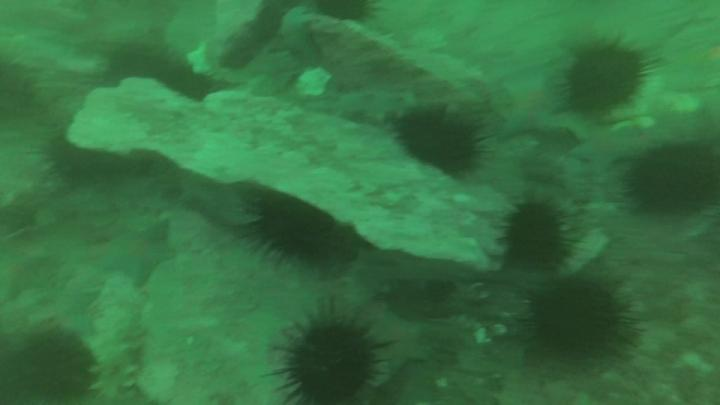echinus: (289, 319, 377, 405), (529, 285, 626, 362), (631, 148, 720, 220), (17, 323, 90, 401), (566, 44, 645, 114), (256, 204, 339, 265), (399, 109, 475, 172), (508, 203, 566, 269), (44, 139, 91, 179)
holothurian: (94, 310, 137, 404)
scallop: (297, 64, 331, 99)
starfish: (106, 219, 175, 289), (374, 302, 429, 387)
